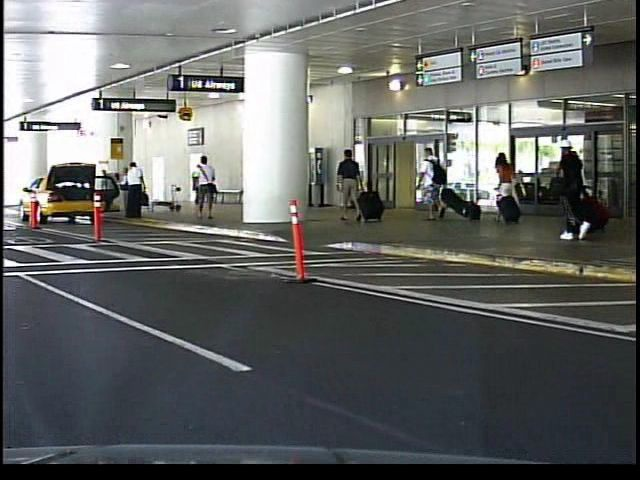person: (547, 130, 595, 242), (490, 144, 525, 230), (414, 142, 451, 222), (336, 143, 366, 226), (194, 154, 226, 227), (186, 164, 208, 211)
